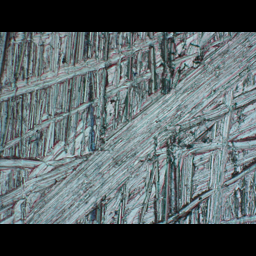d: (1, 33, 255, 223)
